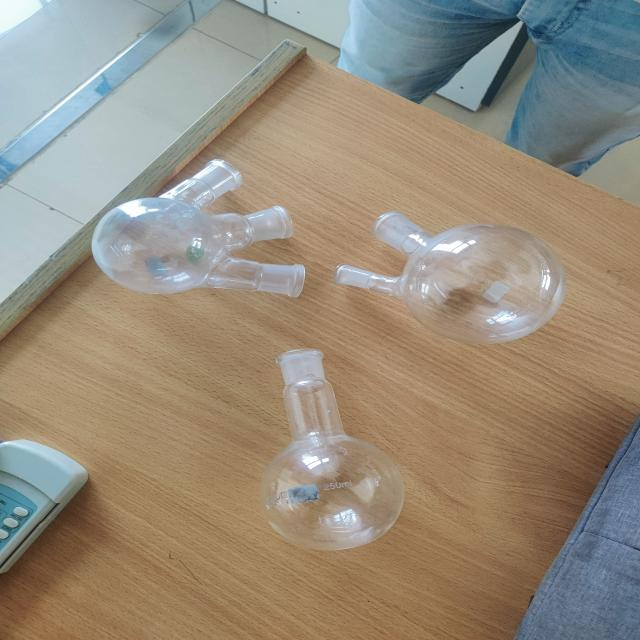Round_Bottom_Flask_Borosilicate_Glass_1_Neck: (229, 316, 425, 562)
Round_Bottom_Flask_Borosilicate_Glass_2_Neck: (322, 178, 602, 362)
Round_Bottom_Flask_Borosilicate_Glass_3_Neck: (78, 141, 320, 340)
